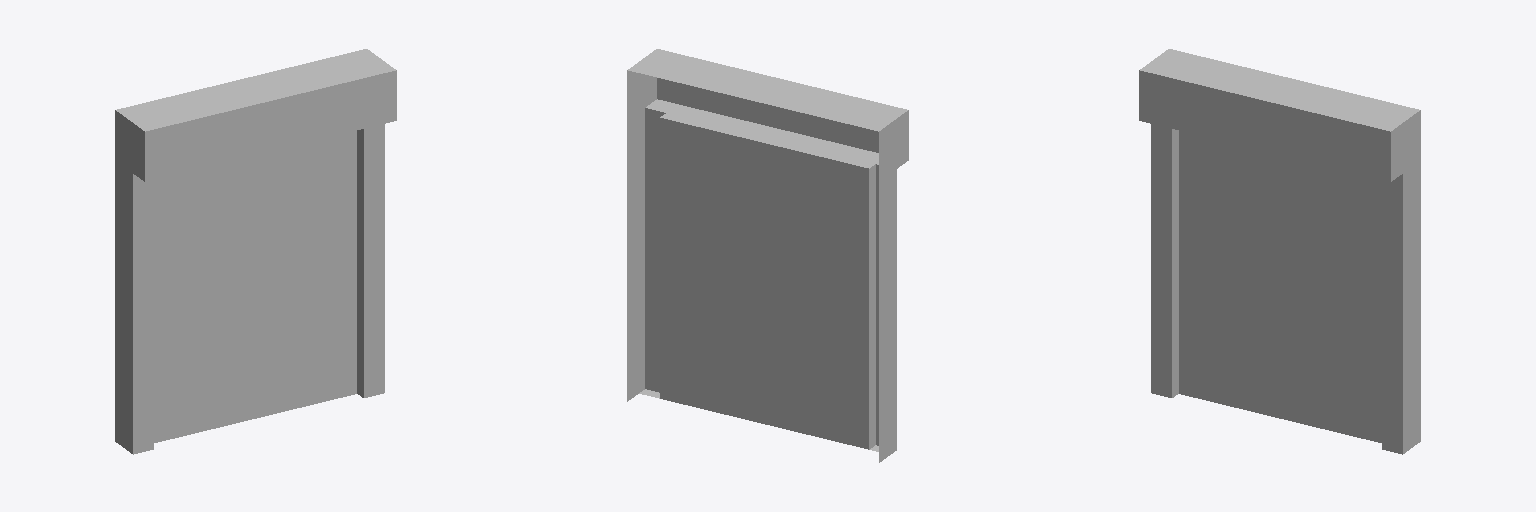
The model's file is Warehouse door.obj.
The picture shows the model from 3 angles: view 1: azimuth 30°, elevation 25°; view 2: azimuth 150°, elevation 25°; view 3: azimuth 330°, elevation 25°; orthographic projection.
Parts seen in each view (by area): view 1: Shutter; view 2: Shutter; view 3: Shutter.
Part boxes in pixels (x1,y1,x2,y2): Shutter: (115, 49, 396, 454); Shutter: (627, 49, 908, 462); Shutter: (1139, 49, 1420, 454).
Bounding box in the file's own units: 160 × 202 × 32.66.